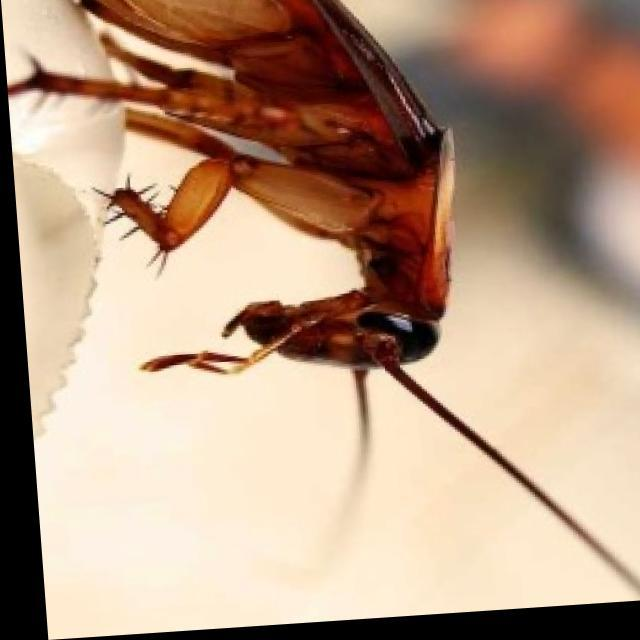cockroach: (0, 0, 550, 505)
